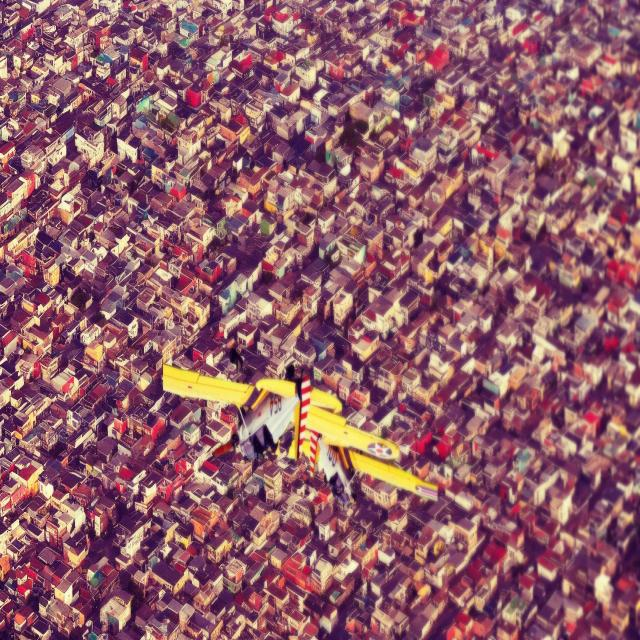airplane: (162, 359, 440, 507)
